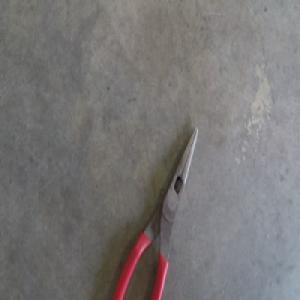Pliers: (111, 126, 198, 298)
